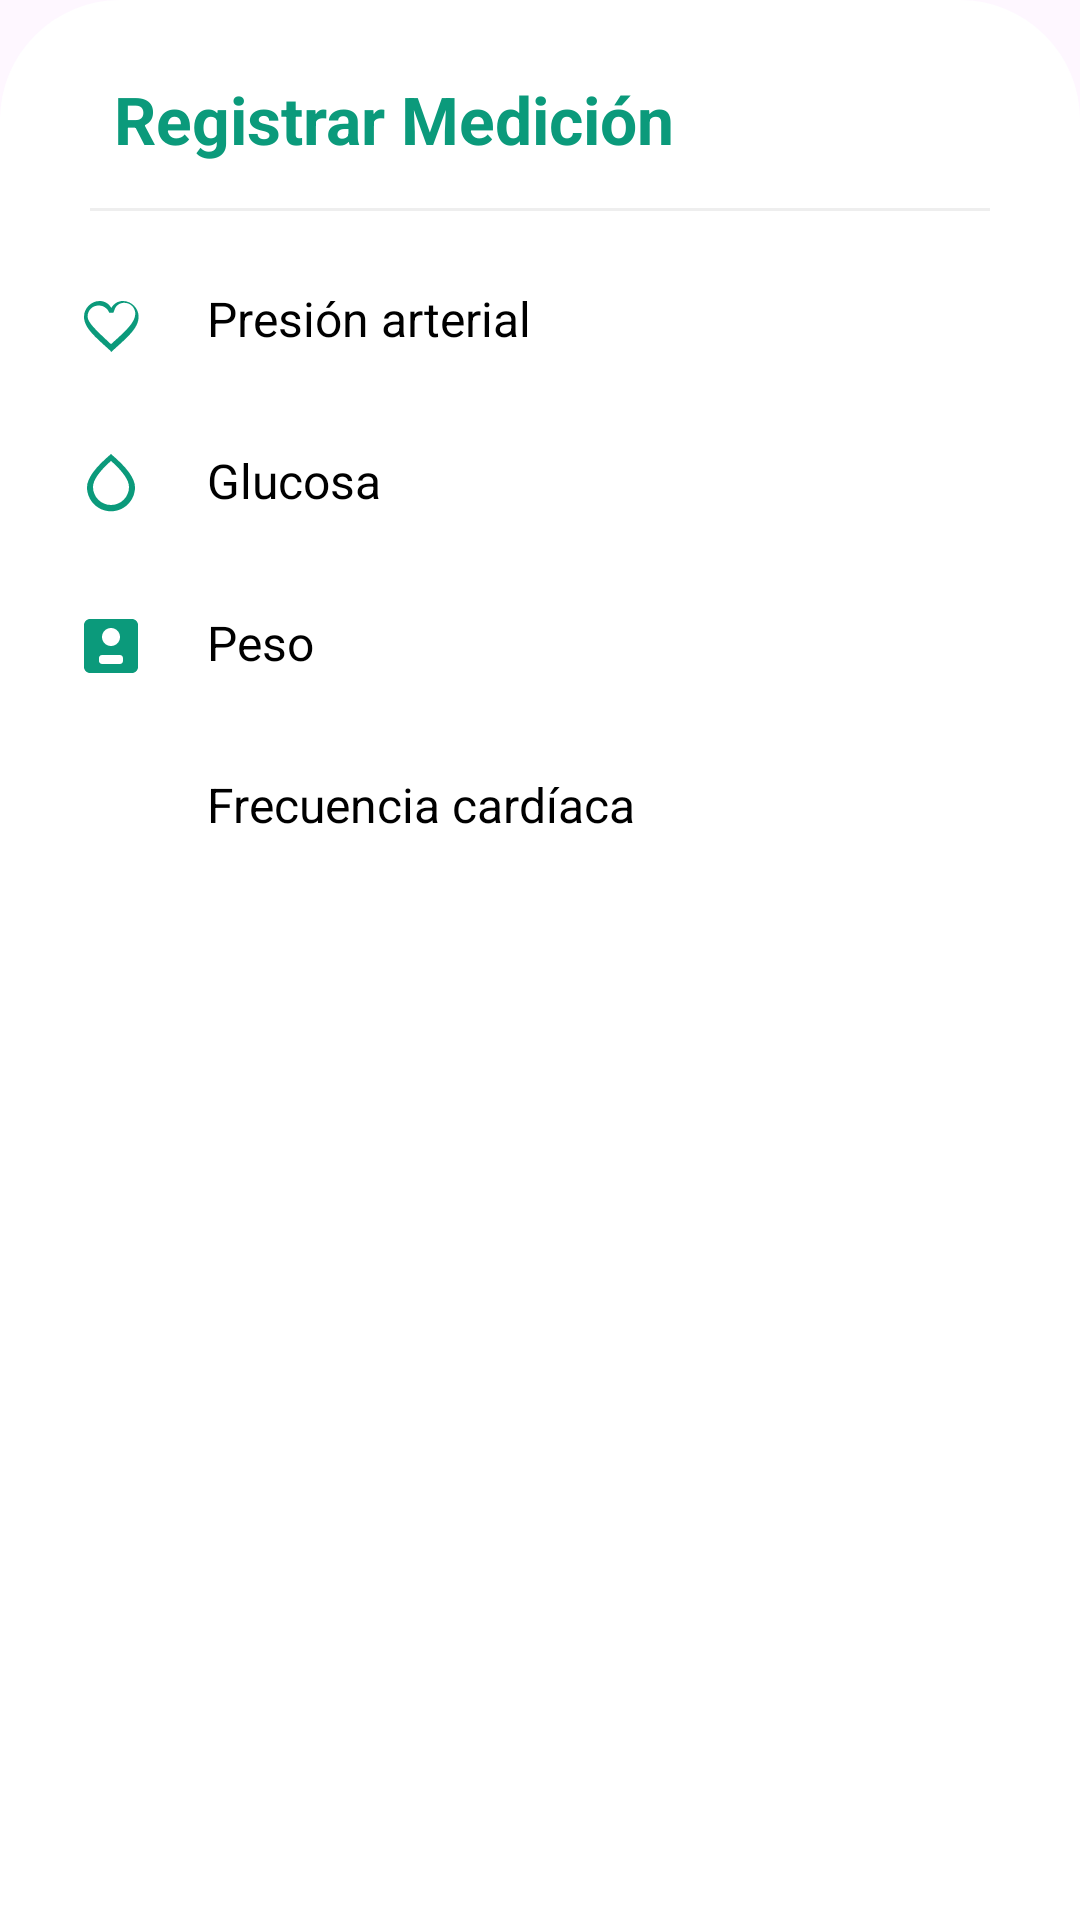

Screen size 1080w x 1920h. Icon name, then its box in pixels as (x1, y1, x2, y2):
blood pressure: (84, 301, 139, 352)
glucose: (87, 454, 135, 512)
